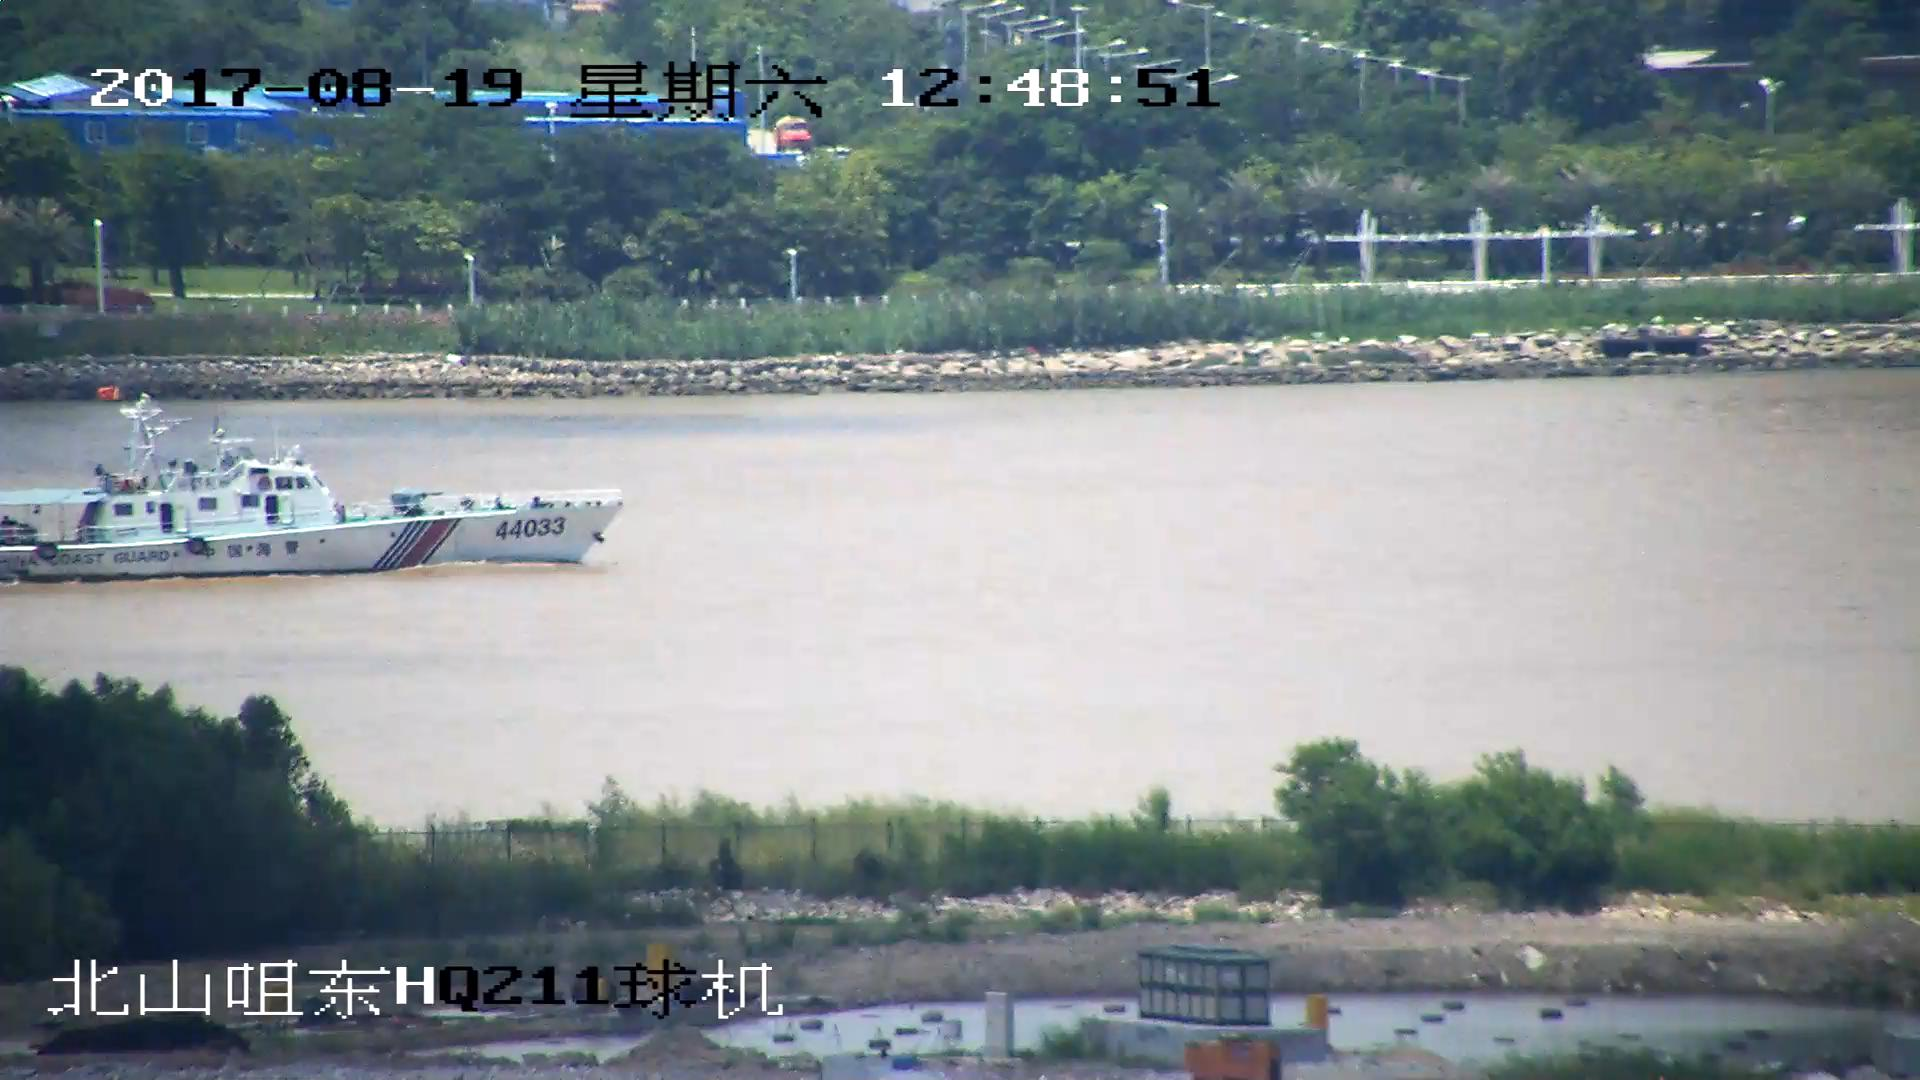passenger ship: (1, 395, 610, 578)
